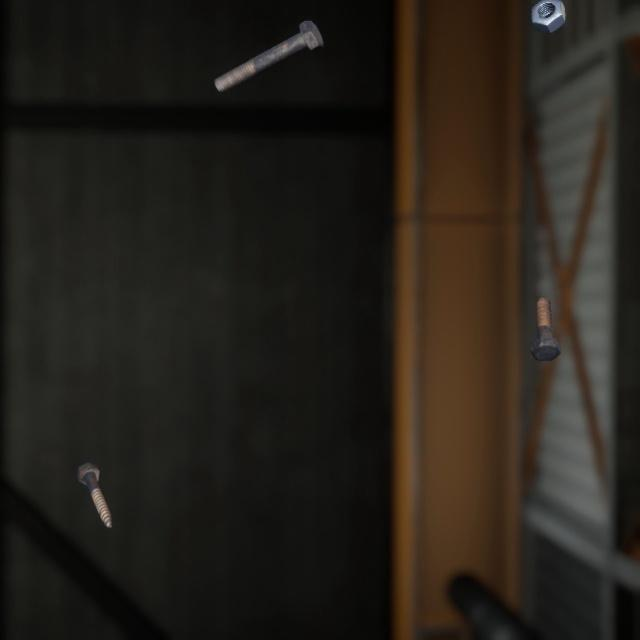bolt: (209, 5, 327, 86), (72, 437, 117, 510), (526, 275, 565, 347)
nut: (526, 0, 570, 30)
